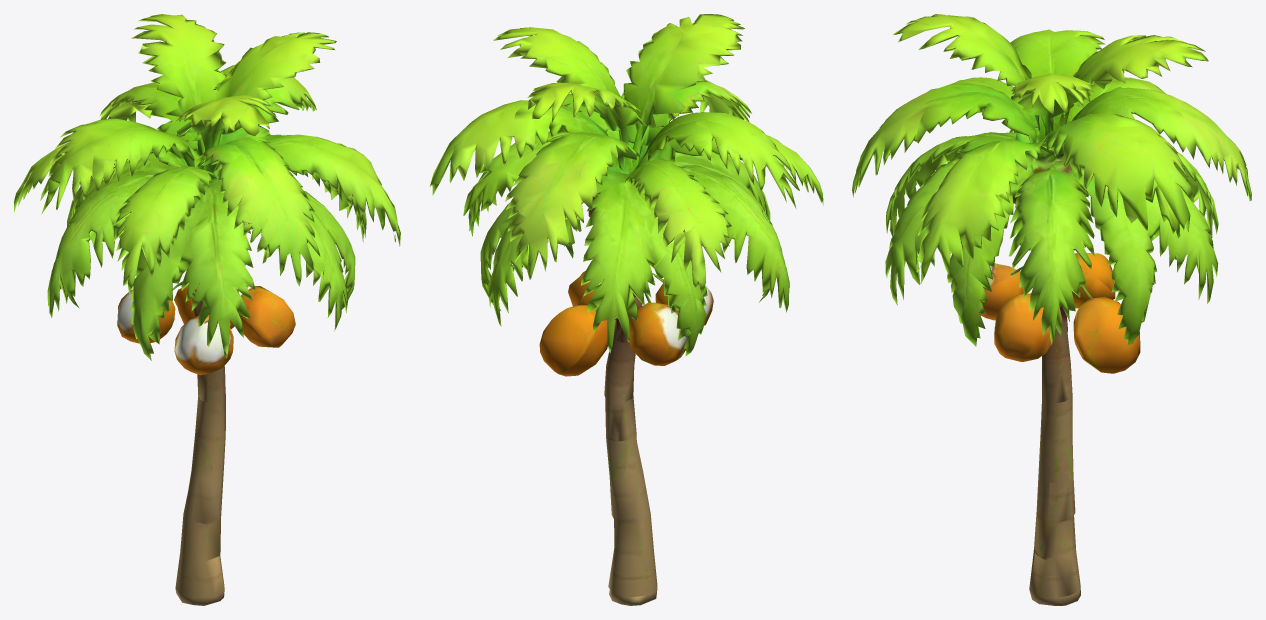
The model's file is palm_tree.glb.
3 views of the same model, side by side, from view 1: azimuth 30°, elevation 25°; view 2: azimuth 150°, elevation 25°; view 3: azimuth 270°, elevation 25° (orthographic). The views are drawn at different scales.
Bounding box in the file's own units: 1.21 × 1.91 × 1.22.
1 material, 1 textured.
